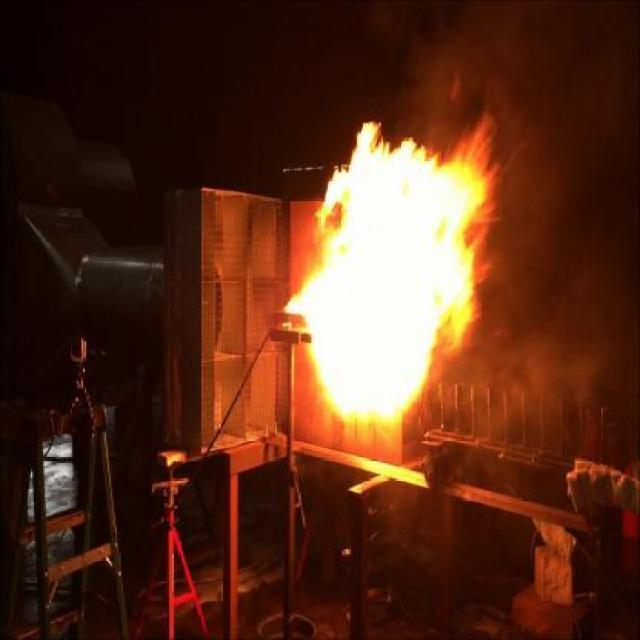Fire: (287, 110, 485, 426)
